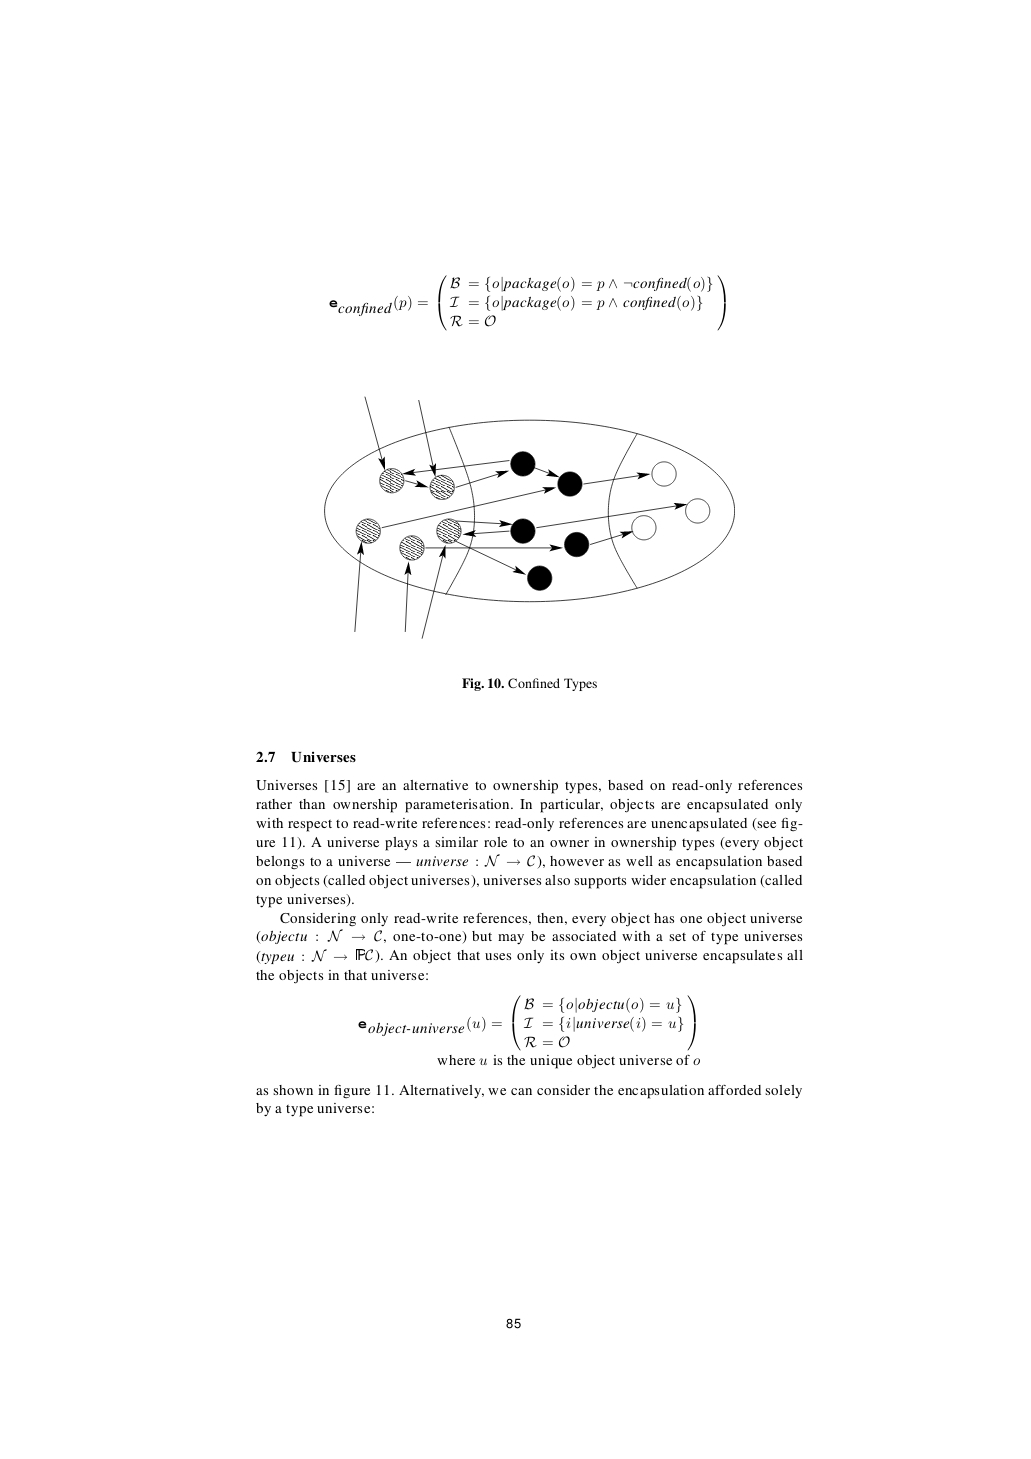figure: (324, 395, 734, 639)
formula: (329, 274, 725, 331), (358, 994, 695, 1051)
